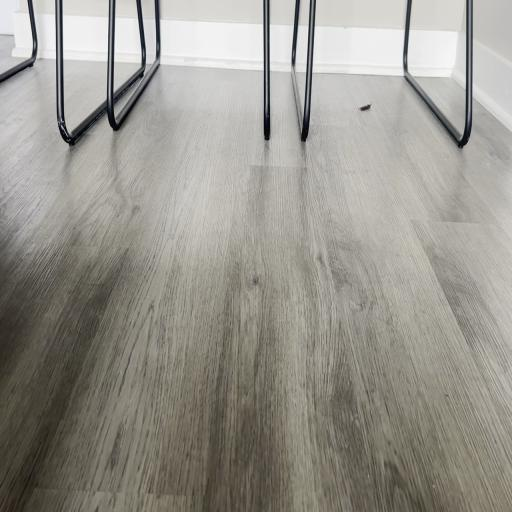cockroach: (359, 103, 372, 112)
